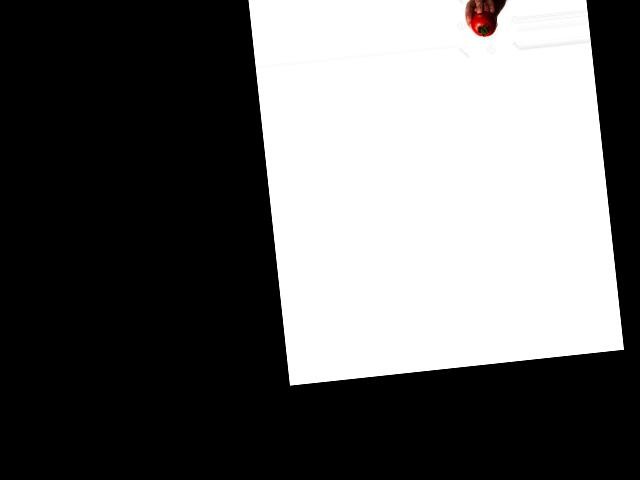tomato: (470, 10, 498, 38)
